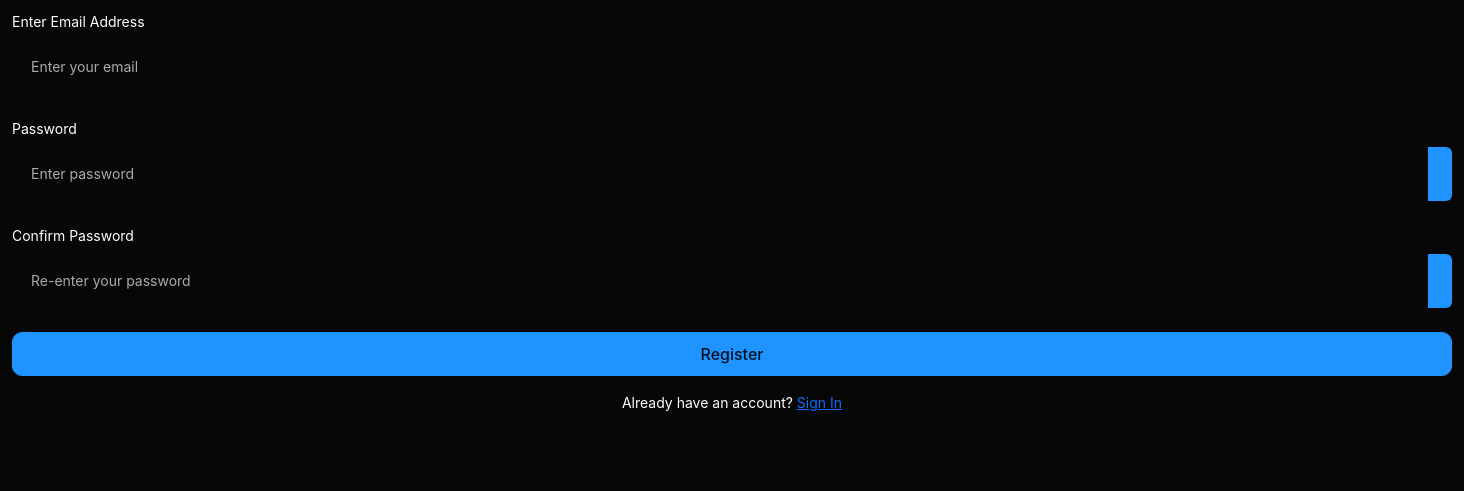
Register — the submit path reaches the API (CRITICAL) › an invalid form still blocks the API and says why
In the field with placeholder "Enter your email": (732, 67) [12,40,1452,94], type "not-an-email"
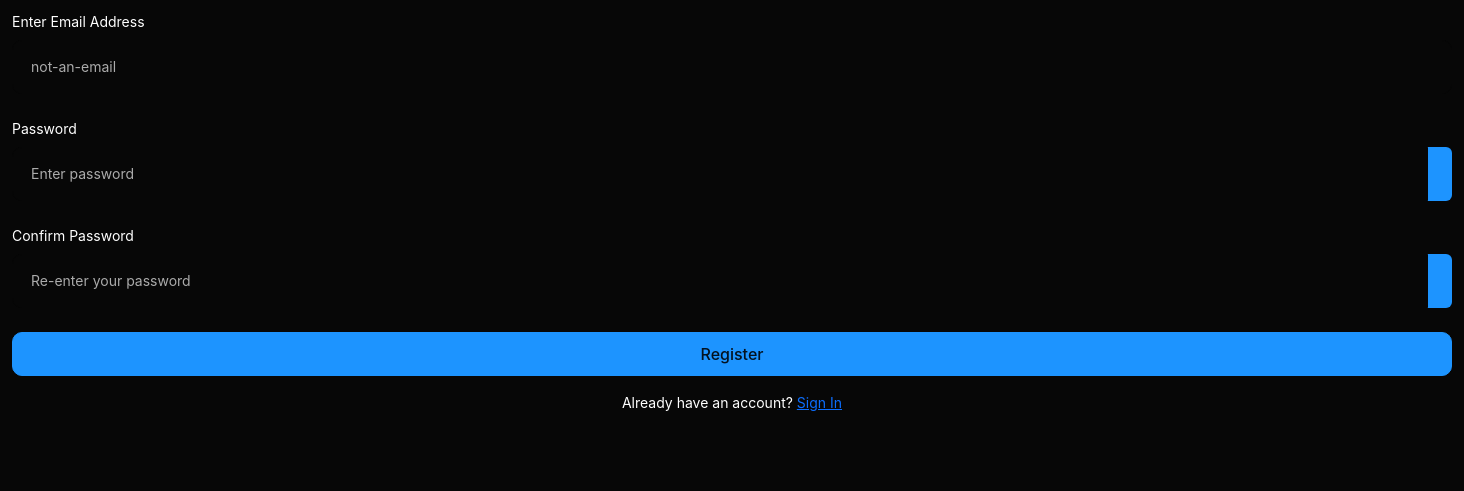
Click the button "Register": (732, 354) [12,332,1452,376]
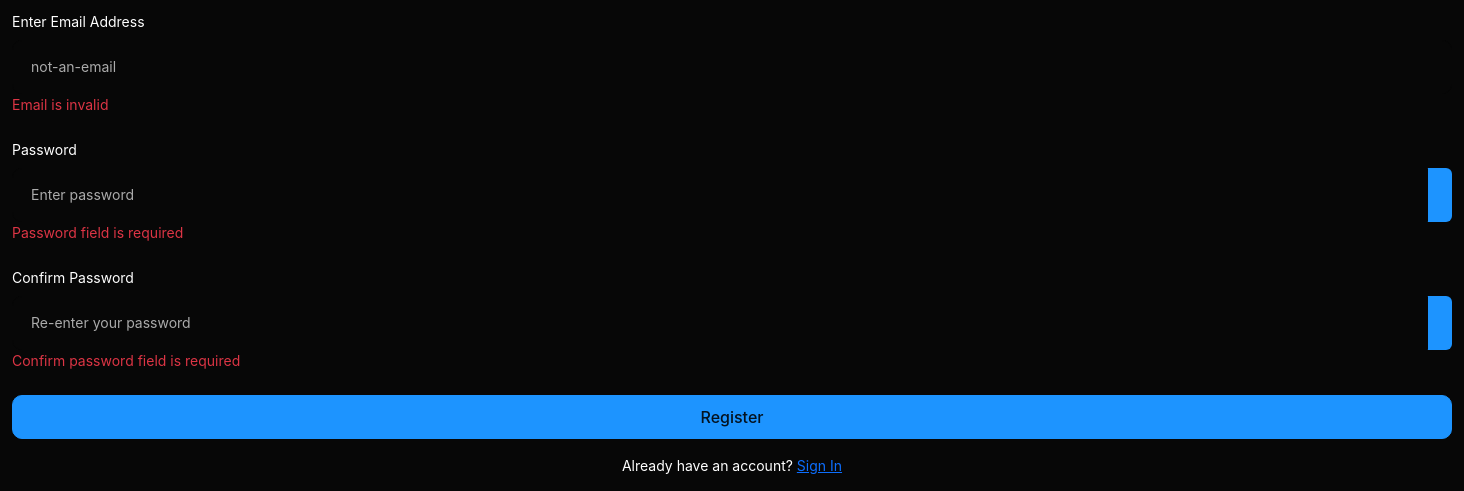
Now the text "Email is invalid" is shown, box [12,96,108,113]
